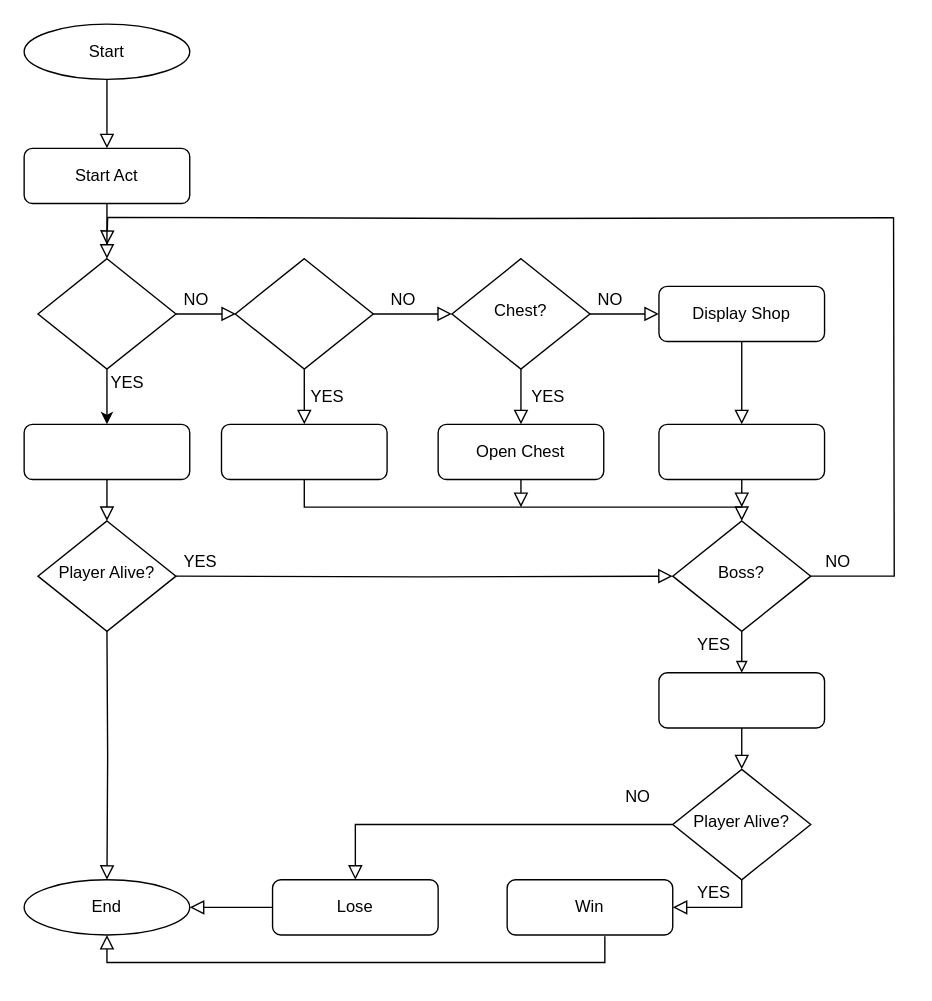
The diagram is 932 pixels wide and 1001 high, and some of its shapes have lost their labels. Here are the shapes that lost their labels. From the top down, the centre of each, then its label:
point (106, 313): Enemy?
point (303, 313): Rest?
point (106, 451): Fight enemy
point (303, 451): Heal
point (741, 451): Buy Items
point (741, 699): Fight Boss
